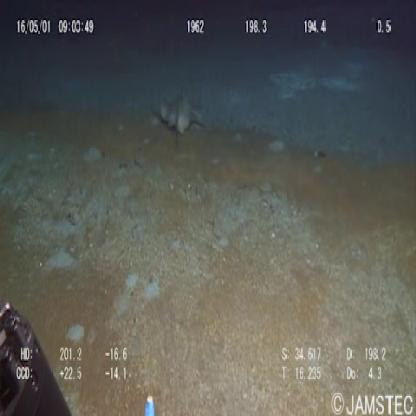Bio: (158, 89, 205, 145)
Rov: (1, 299, 74, 416)
